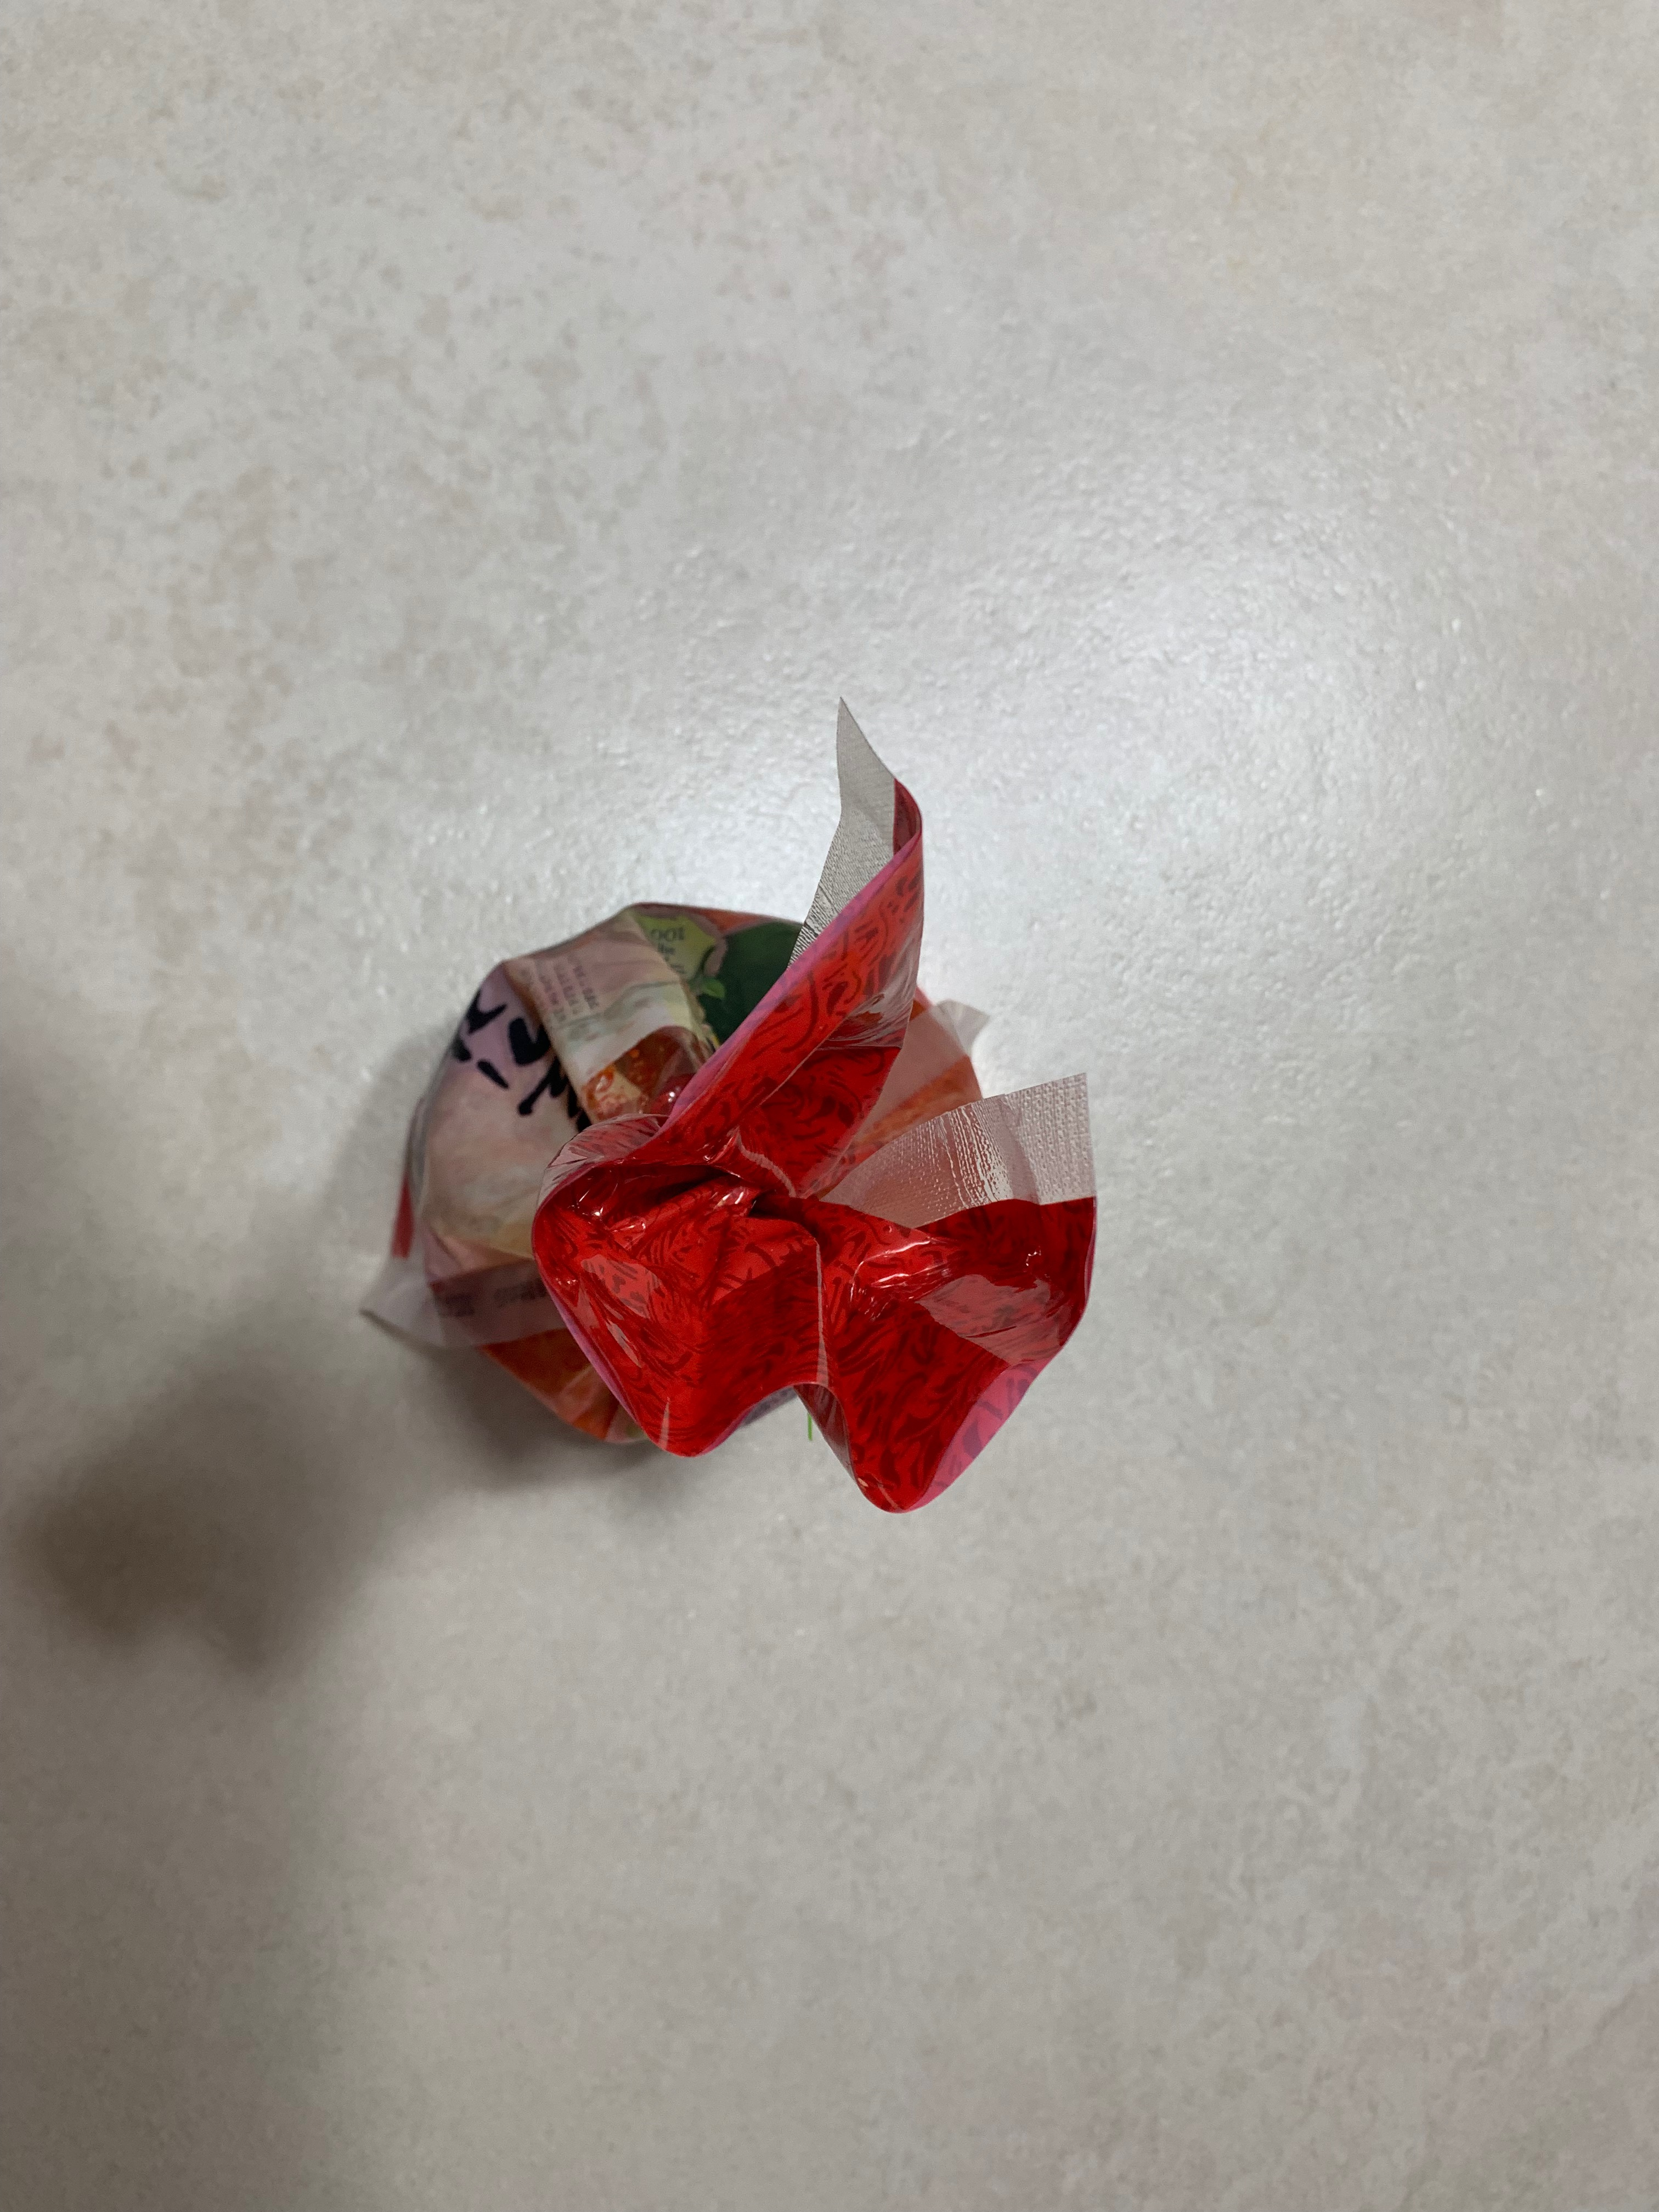kimchi: (382, 892, 1096, 1529)
